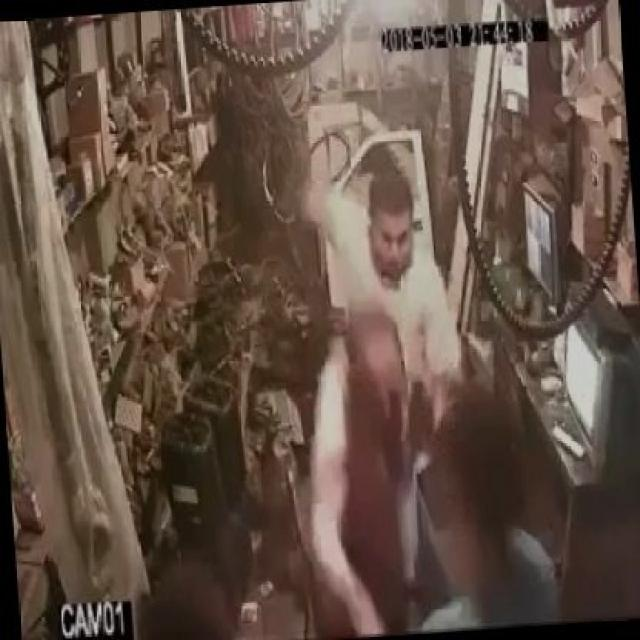fight: (309, 307, 566, 637), (290, 156, 475, 426)
